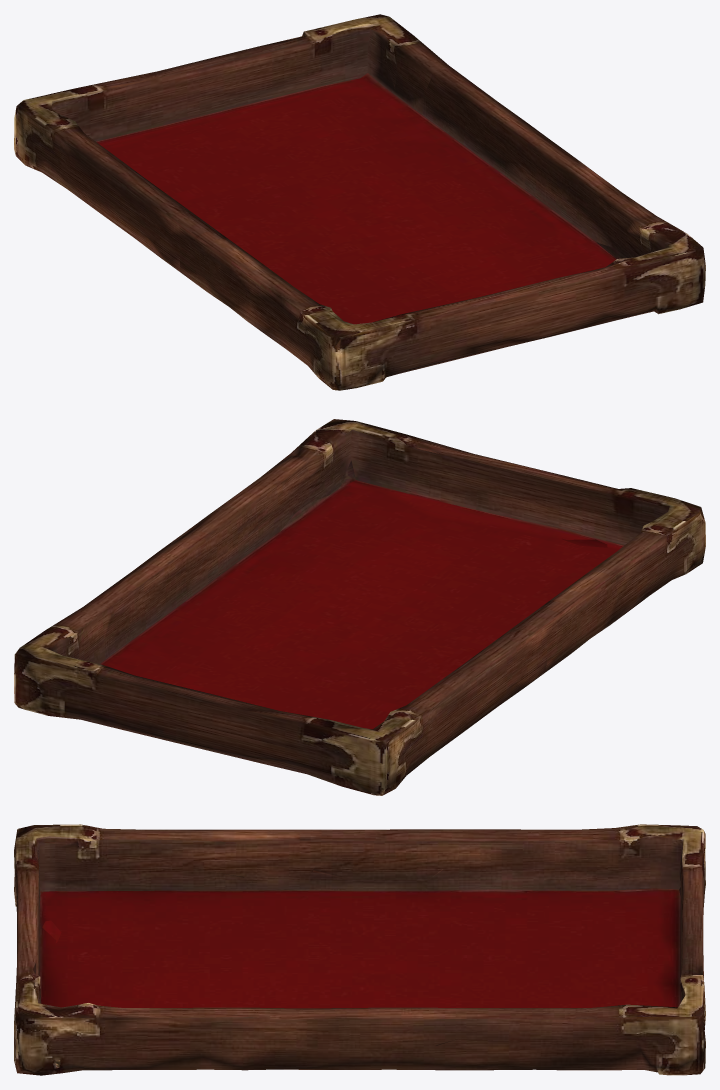
File: dice-box.glb
The picture shows the model from 3 angles, top to bottom: view 1: azimuth 30°, elevation 25°; view 2: azimuth 150°, elevation 25°; view 3: azimuth 270°, elevation 25°; orthographic projection. The views are drawn at different scales.
Visible parts, largest first — view 1: prop-dice-box; view 2: prop-dice-box; view 3: prop-dice-box.
Boxes of the visible parts, box(x1,y1,x2,y2) form: prop-dice-box: box(14, 14, 705, 390); prop-dice-box: box(14, 419, 705, 795); prop-dice-box: box(14, 824, 705, 1075).
Size of the model in its own units: 1.1 by 0.1599 by 1.65.
1 material, 1 textured.
